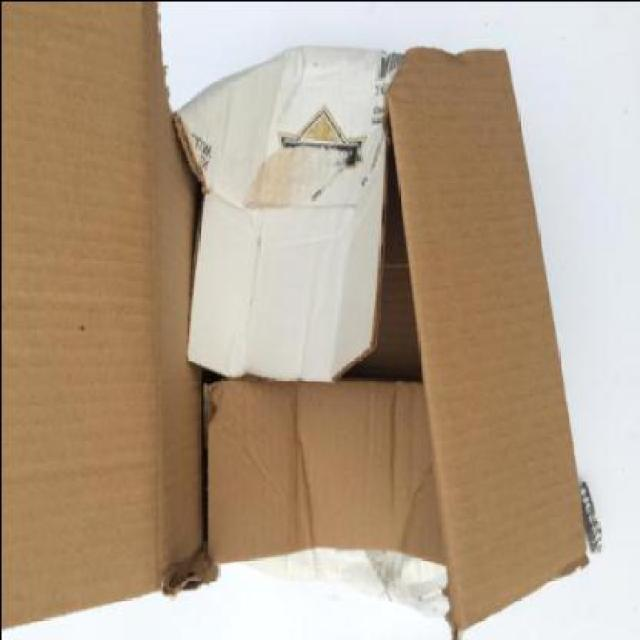cardboard: (1, 0, 586, 638)
